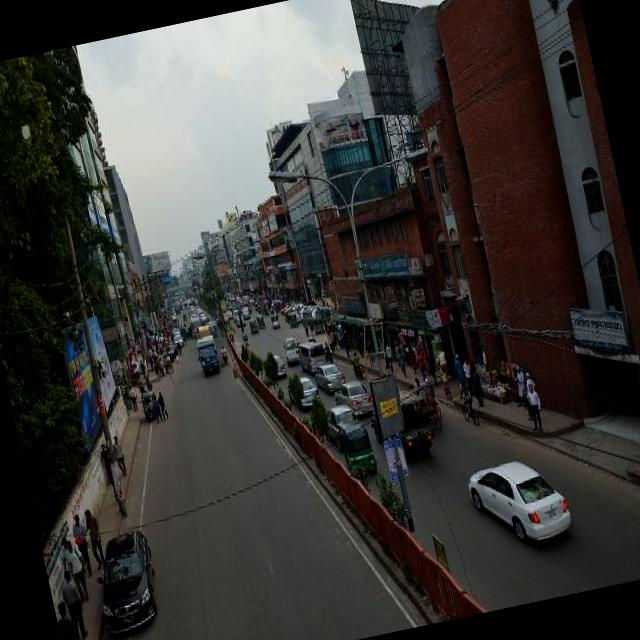bus: (190, 314, 203, 326)
car: (464, 446, 577, 554), (86, 522, 166, 632), (400, 391, 443, 472), (285, 369, 322, 407), (332, 374, 373, 407), (314, 358, 347, 384), (324, 398, 351, 419), (272, 348, 290, 378), (174, 330, 186, 346), (166, 338, 176, 357), (234, 310, 246, 324), (242, 306, 252, 316), (196, 304, 204, 313), (228, 308, 235, 318), (208, 316, 218, 322)
motorcycle: (334, 411, 381, 478), (426, 384, 444, 430), (139, 386, 161, 420), (347, 352, 365, 377), (286, 307, 301, 327), (312, 313, 326, 333), (268, 310, 282, 328), (220, 345, 232, 363), (248, 315, 259, 332), (256, 310, 266, 327), (182, 321, 192, 337), (328, 349, 337, 359)
truck: (195, 333, 222, 375), (295, 336, 328, 366), (281, 333, 299, 363), (200, 323, 212, 335), (173, 302, 181, 312)
